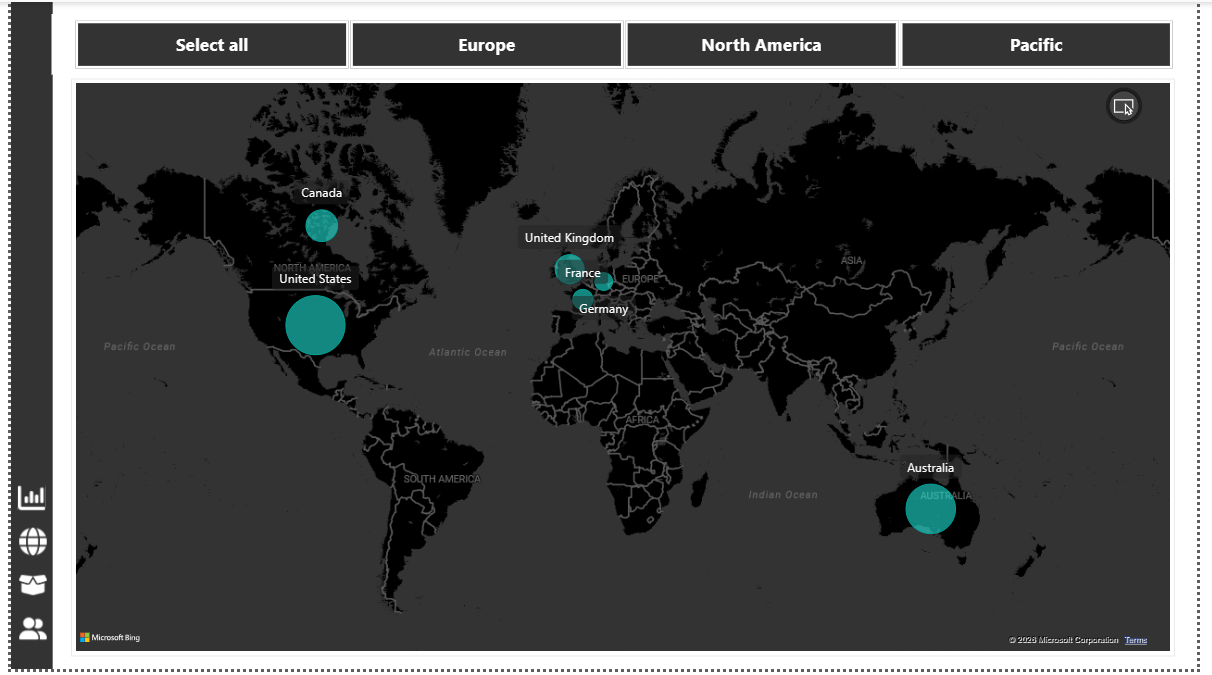

What the dashboard file says about the page in this screenshot:
{"tool":"powerbi","page":{"name":"Map","canvas":[1280,720],"ordinal":1},"visuals":[{"type":"shape","box":[0,0,45,720],"z":0},{"type":"actionButton","box":[2.5,516.7,45.6,37.8],"z":0,"group":"g1"},{"type":"map","fields":{"Category":["Territory Lookup.Country"],"Size":["Measure Table.Total Orders"]},"box":[65.6,82.5,1191.3,622.8],"z":1000},{"type":"actionButton","box":[3.3,563.4,45.6,37.8],"z":1000,"group":"g1"},{"type":"slicer","fields":{"Values":["Territory Lookup.Continent"]},"box":[43,13.6,1234.3,65.6],"z":2000},{"type":"actionButton","box":[3.3,611.1,45.6,37.8],"z":2000,"group":"g1"},{"type":"group","id":"g1","title":"Navigation Buttons","box":[2.5,516.7,46.4,178.9],"z":3000},{"type":"actionButton","box":[3.3,657.8,45.6,37.8],"z":3000,"group":"g1"}]}

Visuals, with their boxes in screenshot pixels (x1, y1, x2, y2):
shape: box=[6, 6, 48, 672]
actionButton: box=[9, 484, 51, 519]
map - Territory Lookup.Country x Measure Table.Total Orders: box=[67, 83, 1169, 659]
actionButton: box=[9, 528, 52, 563]
slicer - Territory Lookup.Continent: box=[46, 19, 1188, 80]
actionButton: box=[9, 572, 52, 607]
"Navigation Buttons" group: box=[9, 484, 52, 650]
actionButton: box=[9, 615, 52, 650]
